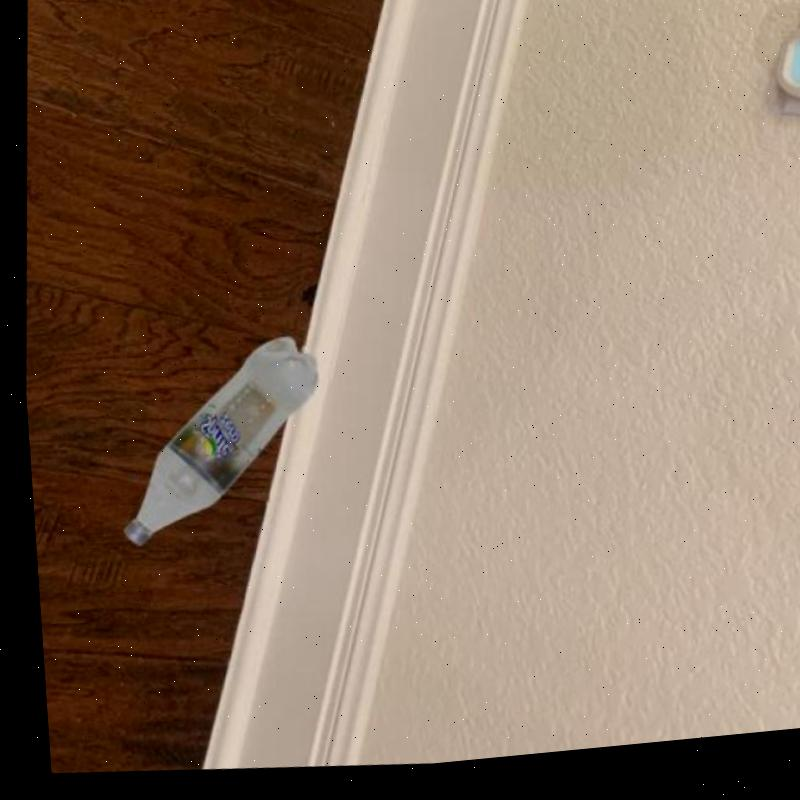botella: (104, 328, 325, 562)
